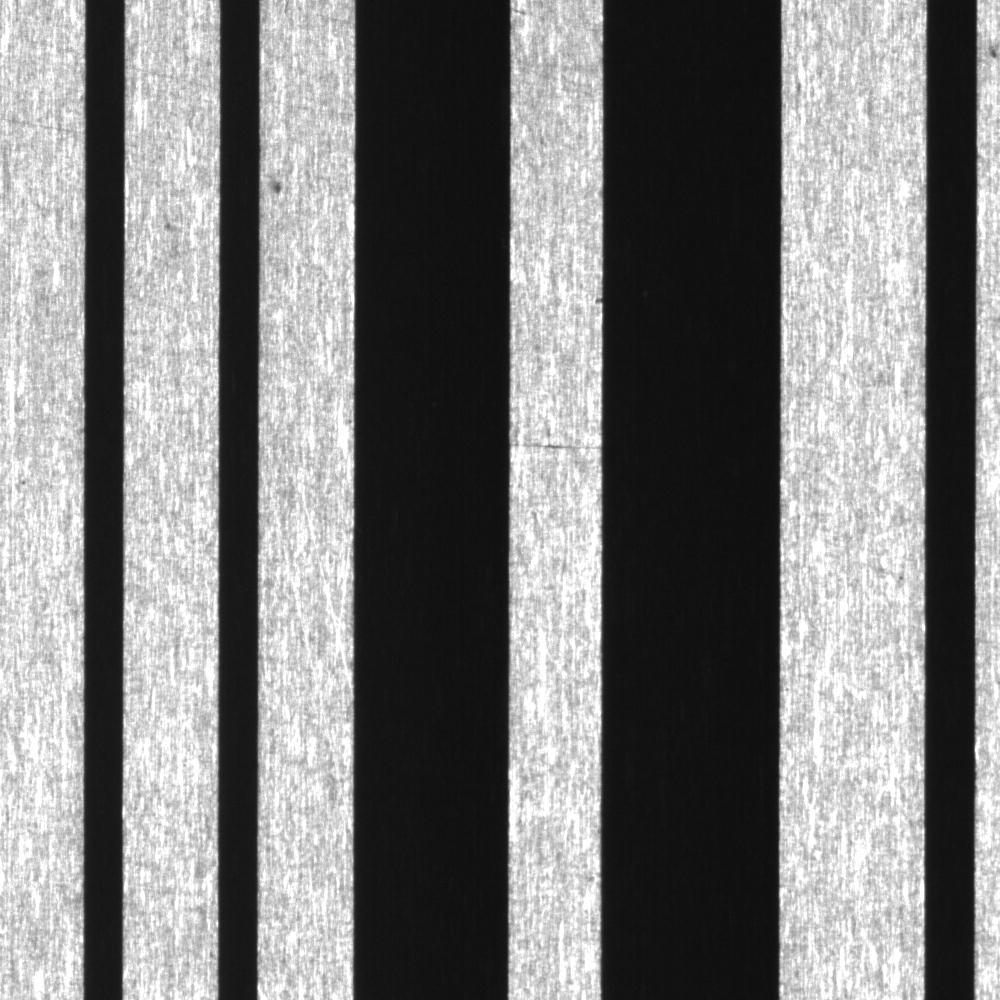Etching: (263, 157, 305, 210)
Scar: (1, 97, 83, 148), (508, 426, 599, 464)
